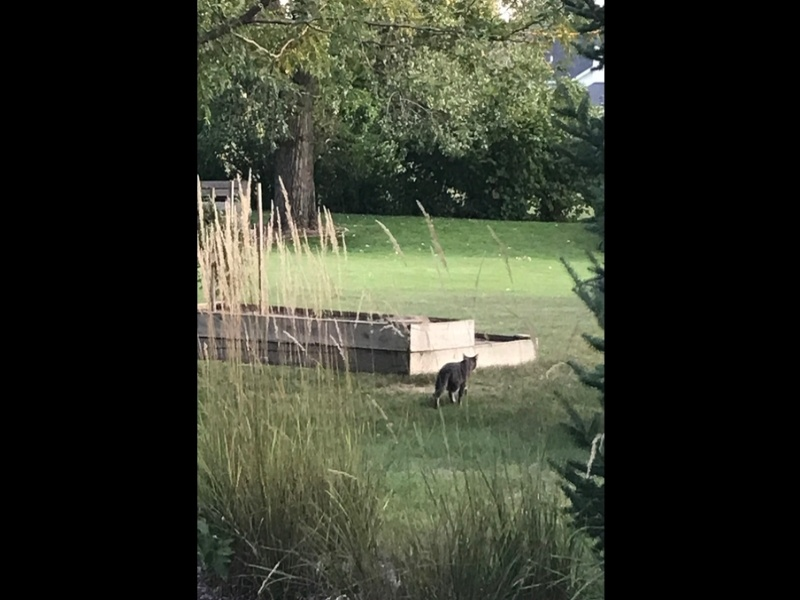cat: (426, 353, 479, 415)
